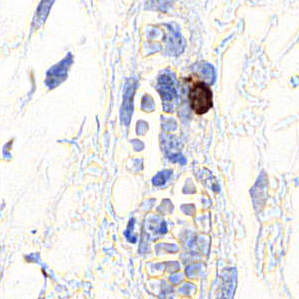Lymphocyte: (187, 80, 216, 115)
